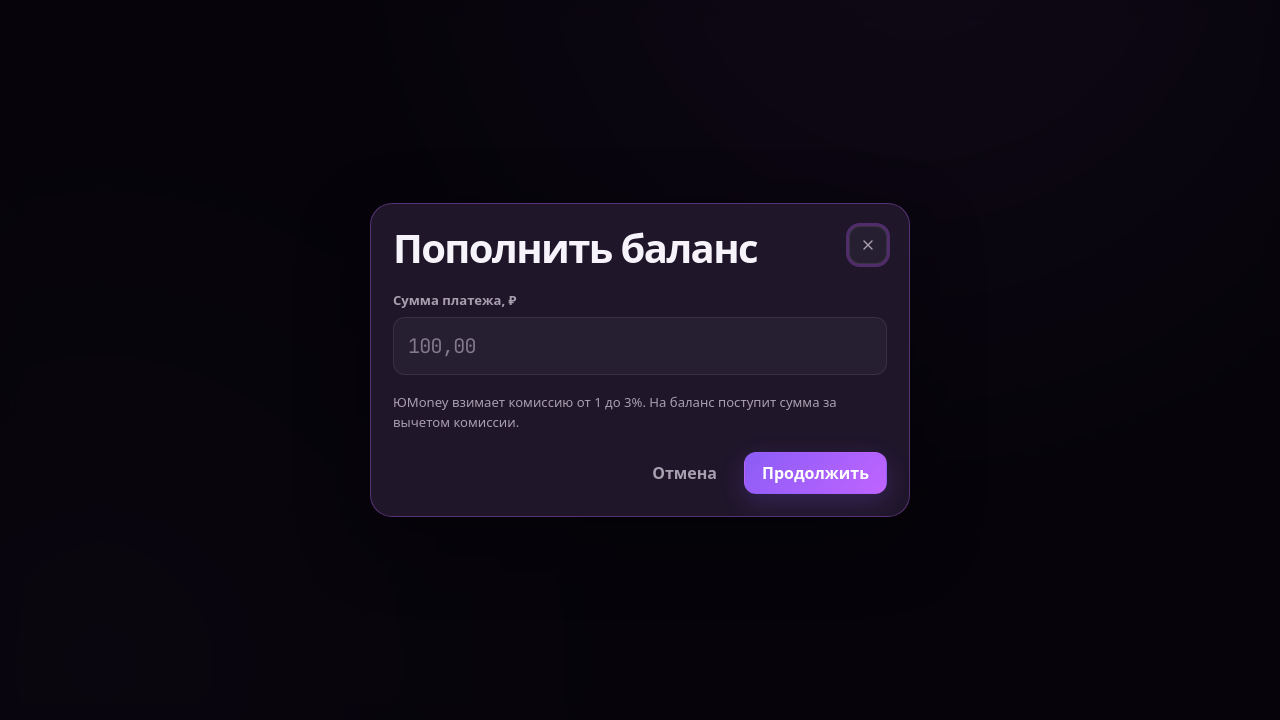
Test: TopUpModal › validates the configured amount range
The width and height of the screenshot is (1280, 720).
Type "9.99" into the number field labelled "Сумма платежа, ₽" at point(640, 346), box [393, 317, 887, 375]
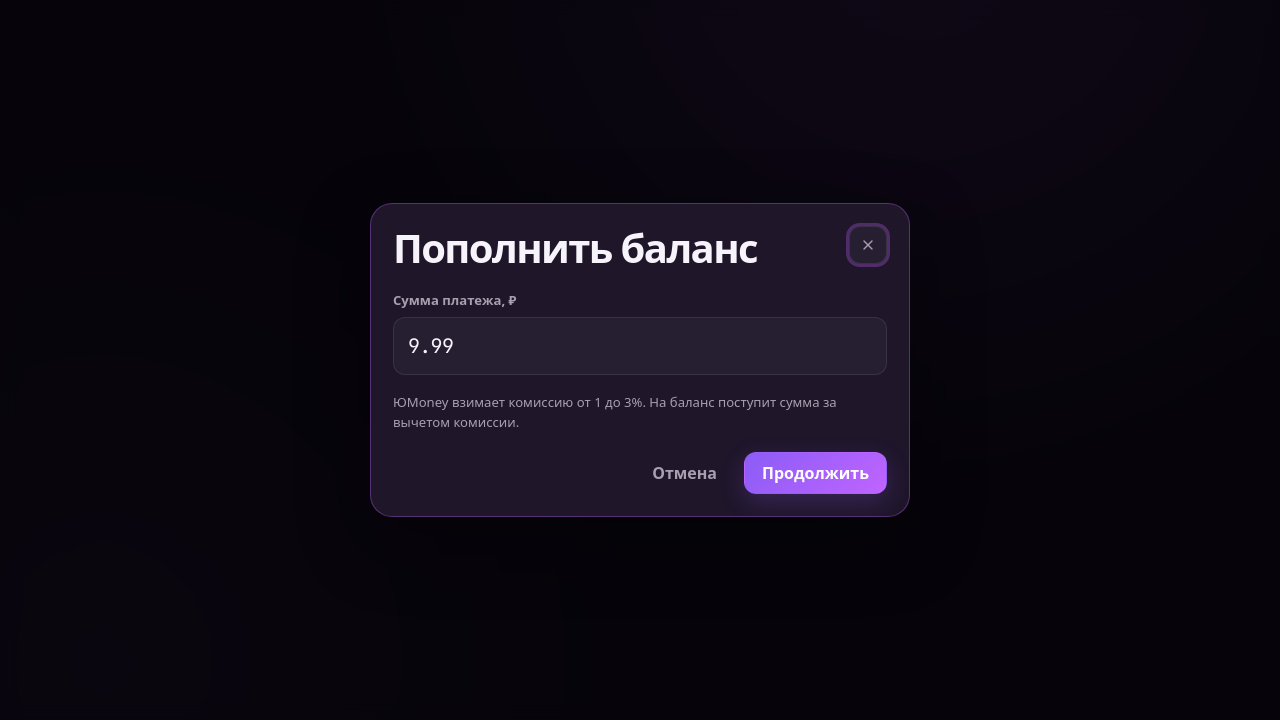
Click the button "Продолжить" at point(816, 473), box [744, 452, 887, 494]
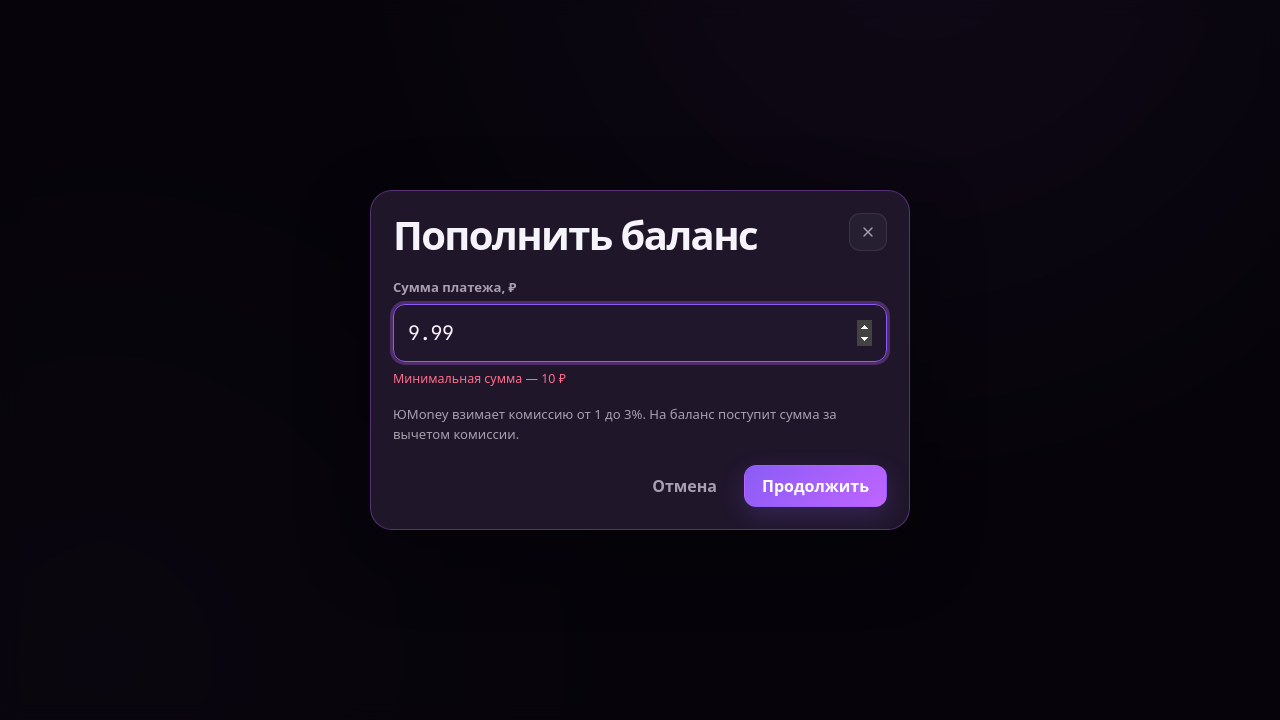
Now the text "Минимальная сумма — 10 ₽" is shown, box [393, 370, 566, 387]
